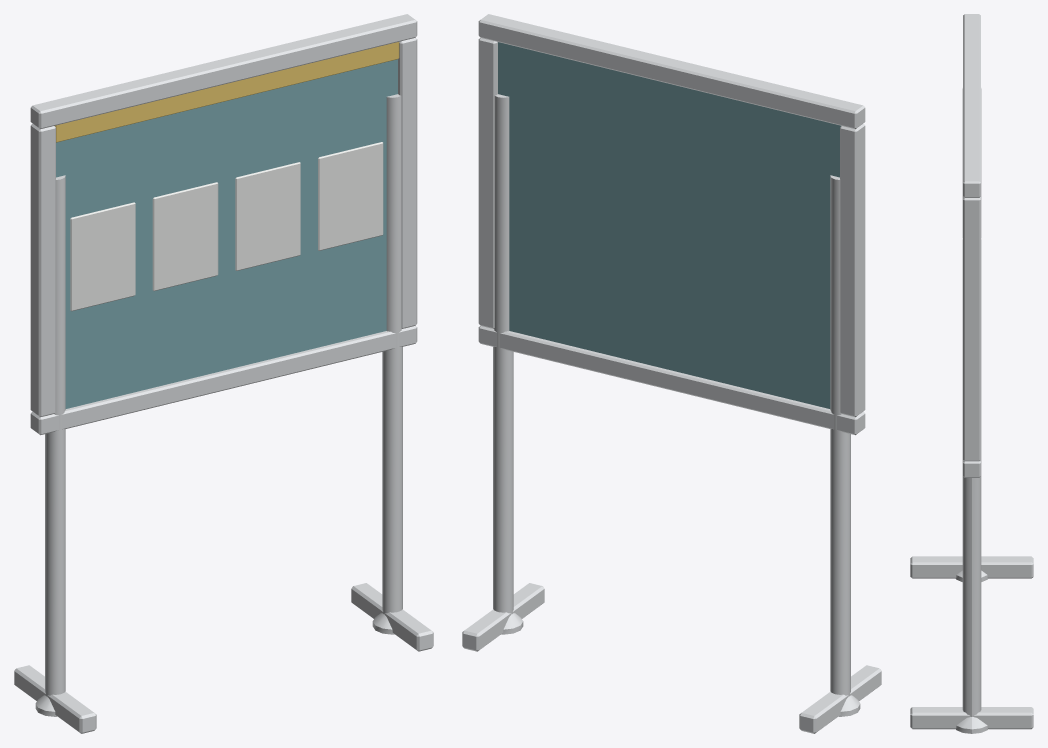
The model's file is clinic-and-veterinary-practice-notice-board-a60357a3__16730.glb.
3 views of the same model, side by side, from view 1: azimuth 30°, elevation 25°; view 2: azimuth 150°, elevation 25°; view 3: azimuth 270°, elevation 25° (orthographic). The views are drawn at different scales.
Visible parts, largest first — view 1: notice-board; view 2: notice-board; view 3: notice-board.
Part boxes in pixels (x1,y1,x2,y2): notice-board: (14, 14, 433, 733); notice-board: (462, 14, 881, 733); notice-board: (910, 14, 1033, 733).
Bounding box in the file's own units: 1.1 × 1.68 × 0.34.
